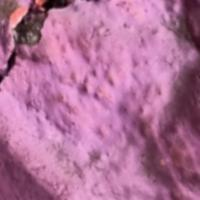crack: (4, 0, 84, 84)
